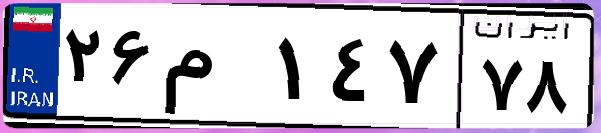1: (270, 28, 330, 110)
2: (57, 26, 110, 100)
4: (330, 28, 385, 110)
6: (110, 28, 158, 98)
7: (385, 28, 445, 110), (475, 38, 525, 113)
8: (525, 38, 570, 115)
م: (158, 20, 270, 120)
